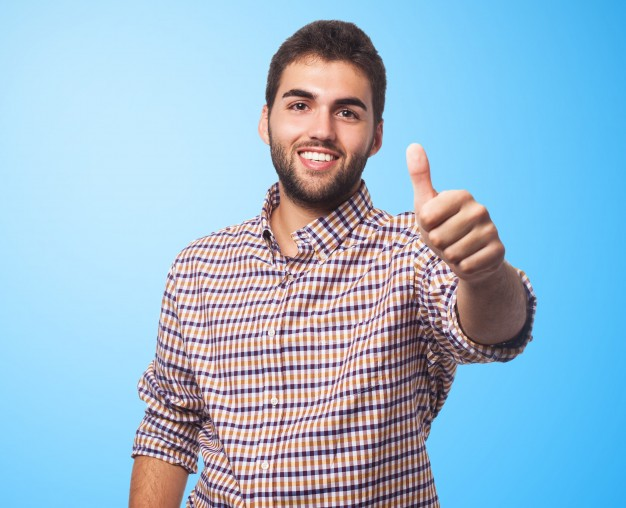thumbsup: (405, 142, 506, 277)
